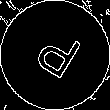P_SW: (26, 24, 84, 86)
